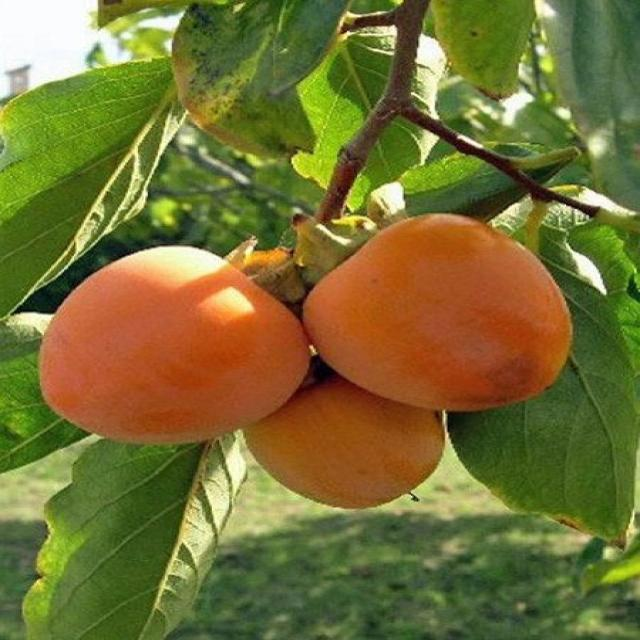kayisi: (84, 297, 285, 401), (343, 266, 512, 362)
yaprak: (24, 88, 106, 216)
